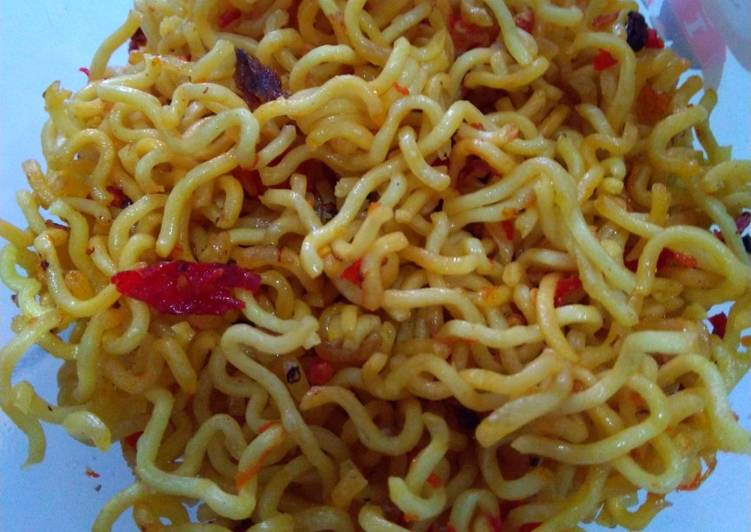Mie: (51, 9, 731, 532)
